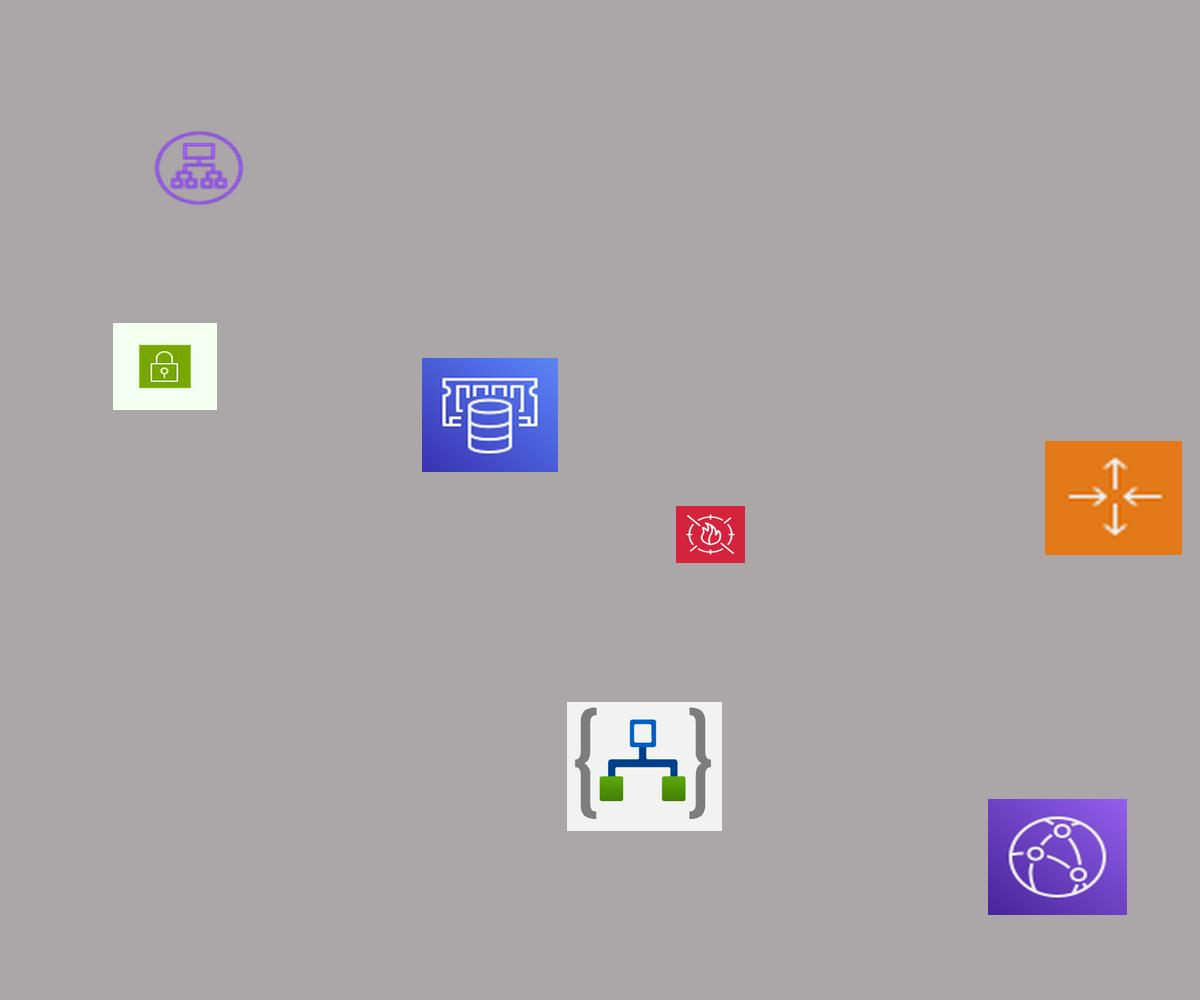AWS-CloudFront: (988, 799, 1127, 915)
AWS-ElastiCache: (422, 358, 558, 472)
AWS-Public-subnet: (113, 323, 217, 410)
AWS-Res_Elastic-Load-Balancing_Application-Load-Balancer: (151, 128, 247, 208)
AWS-Scaling-group: (1045, 441, 1182, 555)
AWS-WAF: (676, 506, 745, 563)
Azure_integration-204-Logic-Apps: (567, 702, 722, 831)
